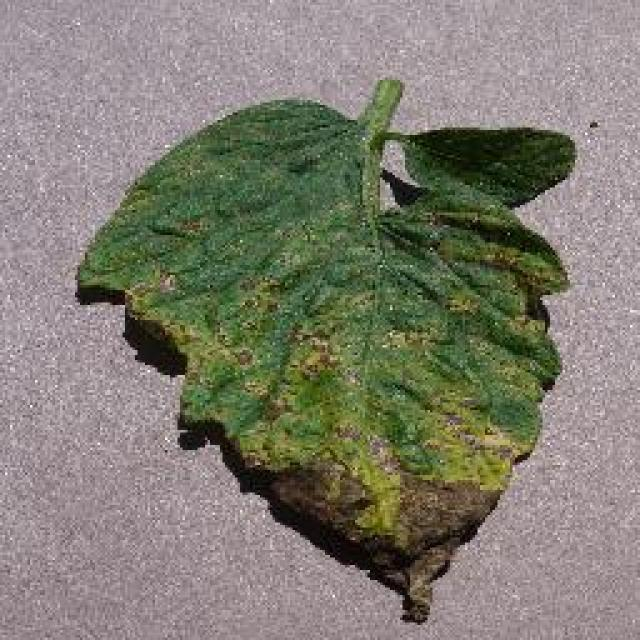Tomato___Septoria_leaf_spot: (78, 80, 572, 620)
